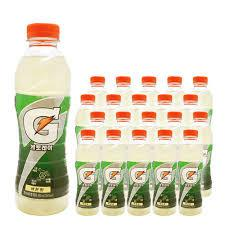gatorade_lemon: (11, 19, 71, 216), (177, 128, 206, 219), (73, 128, 98, 216), (101, 128, 126, 214), (128, 129, 150, 216), (155, 128, 175, 216)
